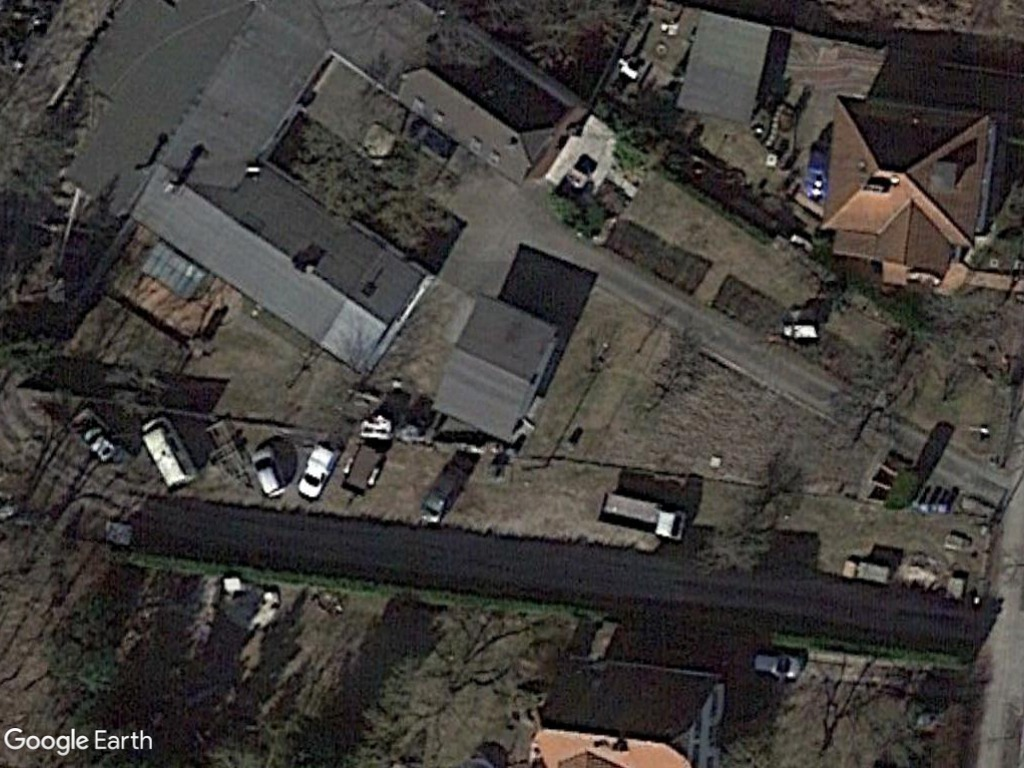car: (293, 440, 342, 504), (249, 441, 291, 500)
other: (594, 485, 694, 544), (136, 412, 199, 490)
